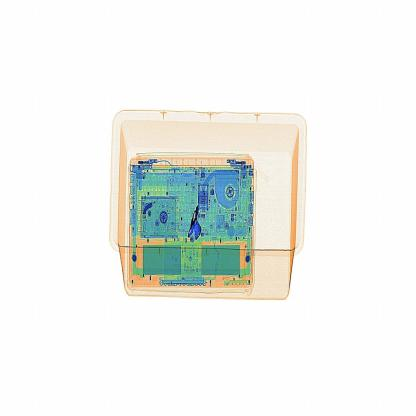wrench: (187, 196, 210, 249)
